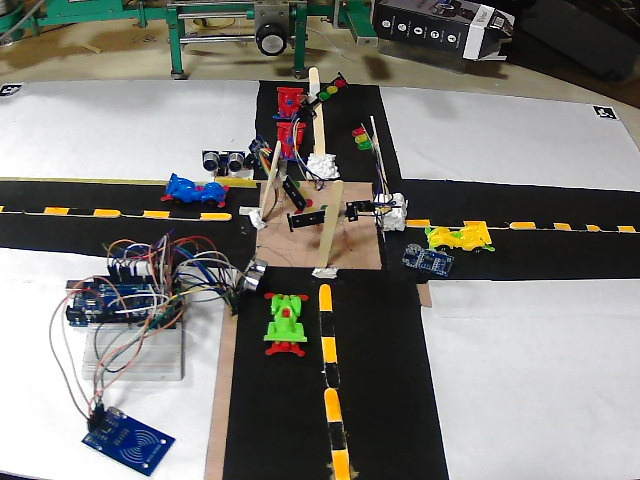aruco_marker: (0, 80, 34, 96), (591, 105, 617, 122)
black_strip: (322, 420, 352, 452), (318, 308, 338, 336), (322, 360, 342, 387), (2, 201, 42, 213), (230, 207, 260, 221), (67, 204, 96, 218), (168, 207, 203, 218), (119, 204, 146, 216), (431, 215, 462, 225), (484, 218, 510, 228), (598, 222, 620, 233), (532, 218, 555, 228), (567, 221, 586, 228), (632, 224, 640, 234)
car: (267, 292, 305, 355), (422, 225, 486, 249), (276, 120, 308, 153), (274, 87, 304, 120)
mixed_lane: (316, 280, 351, 480), (406, 211, 640, 237), (0, 200, 234, 222), (298, 64, 322, 107)
traffic_light: (276, 173, 306, 207), (310, 78, 348, 101), (286, 201, 327, 222), (346, 126, 371, 150)
uno_breadboard: (63, 269, 190, 329), (82, 406, 176, 476), (87, 325, 186, 380), (401, 242, 457, 273), (233, 256, 268, 295), (200, 150, 247, 174), (246, 134, 274, 169)
yellow_strip: (322, 387, 342, 416), (330, 453, 348, 479), (318, 339, 340, 360), (318, 281, 332, 308), (201, 210, 231, 222), (146, 206, 173, 218), (406, 213, 430, 225), (464, 215, 486, 227), (46, 204, 69, 215), (511, 216, 532, 227), (96, 206, 119, 216), (555, 216, 568, 227), (584, 222, 598, 231), (618, 222, 632, 231)
